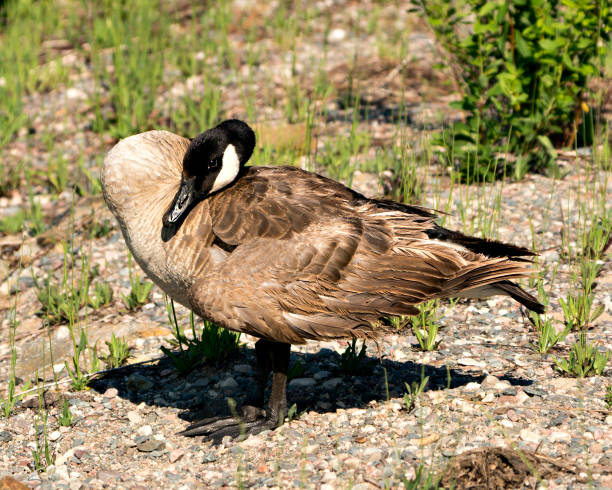goose: (97, 117, 548, 403)
